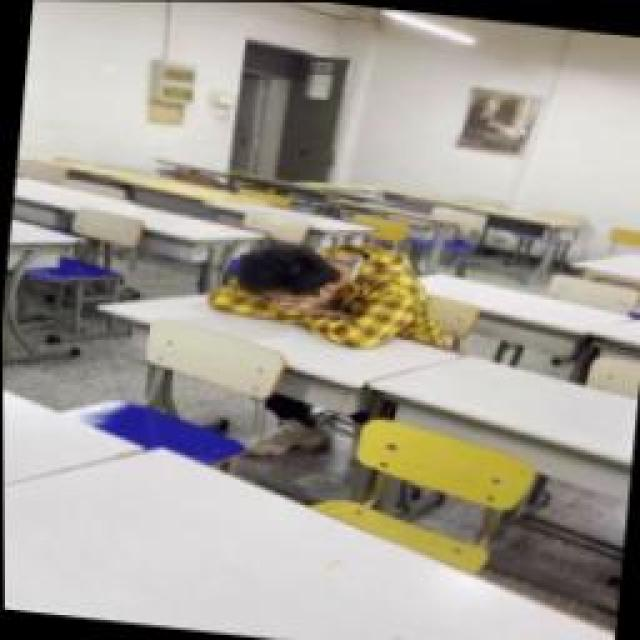sleep: (202, 218, 458, 360)
